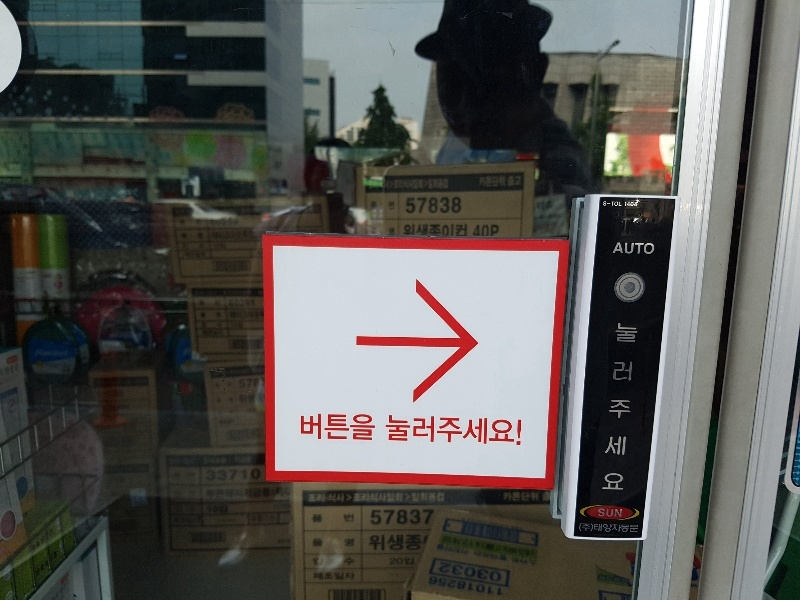text: (625, 321, 639, 492), (617, 321, 624, 492), (177, 471, 192, 528), (193, 216, 208, 265), (209, 216, 224, 265), (225, 216, 240, 265), (241, 216, 256, 265), (178, 216, 192, 265), (193, 471, 203, 528), (449, 534, 464, 571), (465, 534, 480, 571), (481, 534, 496, 571), (497, 534, 512, 571), (513, 534, 528, 571), (225, 378, 236, 427), (209, 298, 224, 333), (225, 298, 240, 333), (241, 298, 256, 333), (209, 485, 224, 519), (225, 485, 240, 519), (241, 485, 256, 519), (257, 485, 272, 519), (273, 485, 288, 519), (401, 415, 416, 446), (417, 415, 432, 446), (433, 415, 448, 446), (449, 415, 464, 446), (465, 415, 480, 446), (481, 415, 496, 446), (497, 415, 512, 446), (215, 378, 224, 427), (386, 415, 400, 446), (305, 413, 320, 440), (321, 413, 336, 440), (337, 413, 352, 440), (353, 413, 368, 440), (197, 298, 208, 333), (449, 560, 464, 585), (465, 560, 480, 585), (481, 560, 496, 585), (529, 534, 539, 571), (433, 575, 448, 599), (449, 575, 464, 599), (465, 575, 480, 599), (481, 575, 496, 599), (369, 534, 384, 551), (385, 534, 400, 551), (401, 534, 416, 551), (417, 197, 432, 214), (433, 197, 448, 214), (513, 415, 521, 446), (417, 223, 432, 239), (433, 223, 448, 239), (449, 223, 464, 239), (172, 471, 176, 528), (439, 560, 448, 585), (385, 510, 400, 525), (401, 510, 416, 525), (417, 510, 432, 525), (625, 241, 640, 256), (402, 223, 416, 239), (641, 241, 655, 256), (481, 225, 496, 239), (257, 298, 263, 333), (449, 197, 461, 214), (257, 216, 261, 265), (371, 510, 384, 525), (321, 537, 336, 550), (337, 537, 352, 550), (321, 557, 336, 570), (337, 557, 352, 570), (321, 571, 336, 584), (337, 571, 352, 584), (433, 178, 449, 190), (443, 534, 448, 571), (321, 492, 336, 504), (337, 492, 352, 504), (353, 492, 368, 504), (369, 492, 384, 504), (385, 492, 400, 504), (401, 492, 416, 504), (417, 492, 432, 504), (401, 178, 416, 190), (417, 178, 432, 190), (481, 176, 496, 188), (497, 176, 512, 188), (593, 522, 608, 534), (609, 522, 624, 534), (321, 513, 336, 525), (337, 513, 352, 525), (209, 470, 224, 482), (225, 470, 240, 482), (241, 470, 256, 482), (177, 456, 192, 468), (193, 456, 208, 468), (209, 456, 224, 468), (225, 456, 240, 468), (241, 456, 256, 468), (241, 377, 256, 389), (406, 197, 416, 214), (497, 575, 504, 599), (433, 492, 447, 504), (625, 522, 639, 534), (513, 491, 528, 502), (529, 491, 544, 502), (369, 413, 375, 440), (307, 492, 320, 504), (609, 508, 623, 519), (580, 522, 592, 534), (204, 485, 208, 519), (497, 560, 502, 585), (616, 241, 624, 256), (311, 537, 320, 550), (389, 557, 400, 567), (406, 556, 416, 567), (598, 508, 608, 519), (391, 178, 400, 190), (312, 557, 320, 570), (503, 491, 512, 502), (428, 575, 432, 599), (513, 176, 521, 188), (312, 513, 320, 525), (168, 456, 176, 468), (257, 377, 265, 389), (313, 571, 320, 584), (417, 534, 422, 551), (474, 225, 480, 239), (301, 413, 304, 440), (609, 201, 622, 207), (289, 485, 291, 519), (545, 491, 551, 502), (625, 202, 638, 207), (257, 470, 262, 482), (465, 223, 468, 239), (353, 557, 356, 570), (433, 510, 435, 525), (603, 201, 608, 207), (497, 225, 499, 239), (353, 537, 355, 550), (353, 571, 355, 584), (478, 176, 480, 188), (353, 513, 355, 525), (401, 557, 403, 567), (207, 470, 208, 482), (257, 456, 258, 468)
